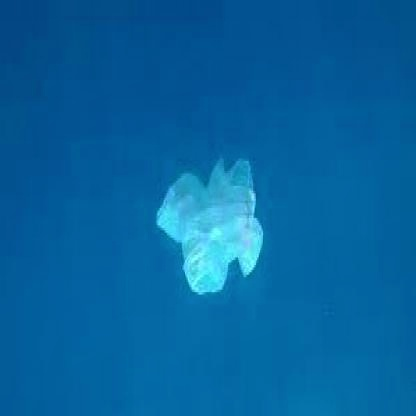pbag: (155, 154, 264, 294)
